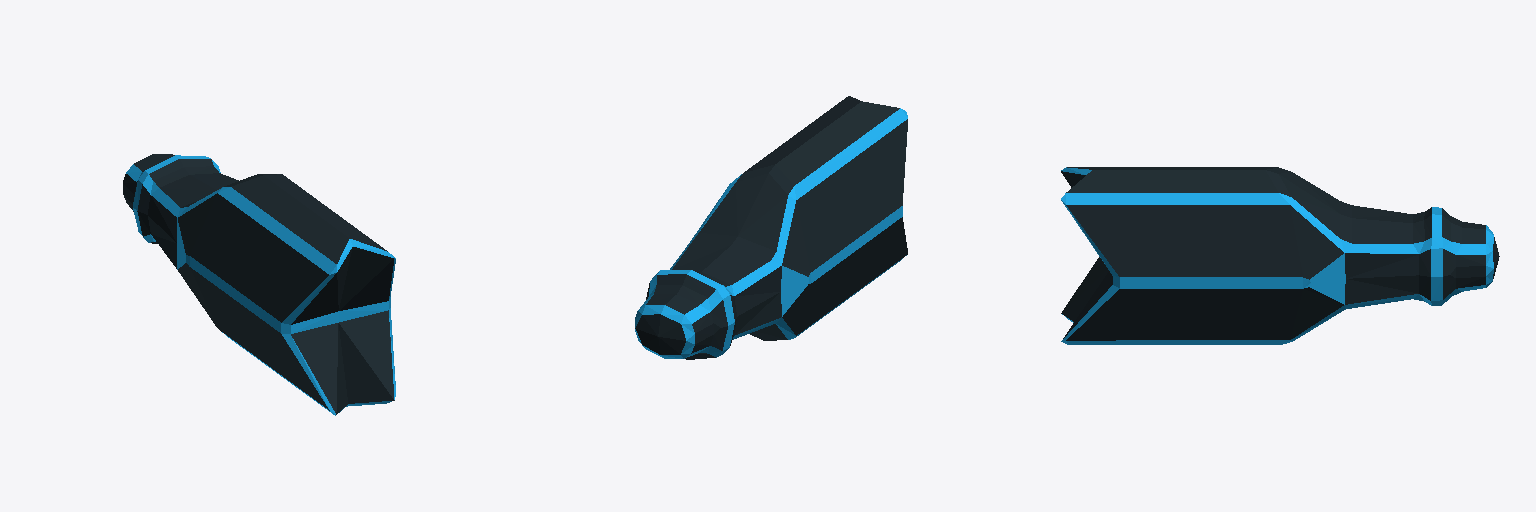
3 views of the same model, side by side, from view 1: azimuth 30°, elevation 25°; view 2: azimuth 150°, elevation 25°; view 3: azimuth 270°, elevation 25° (orthographic).
Visible parts, largest first — view 1: 立方体; view 2: 立方体; view 3: 立方体.
Boxes of the visible parts, x1,y1,x2,y2 form: 立方体: [123, 154, 395, 415]; 立方体: [635, 96, 907, 359]; 立方体: [1061, 167, 1499, 344].
Size of the model in its own units: 1.96 by 2.91 by 6.73.
1 materials, 1 textured.